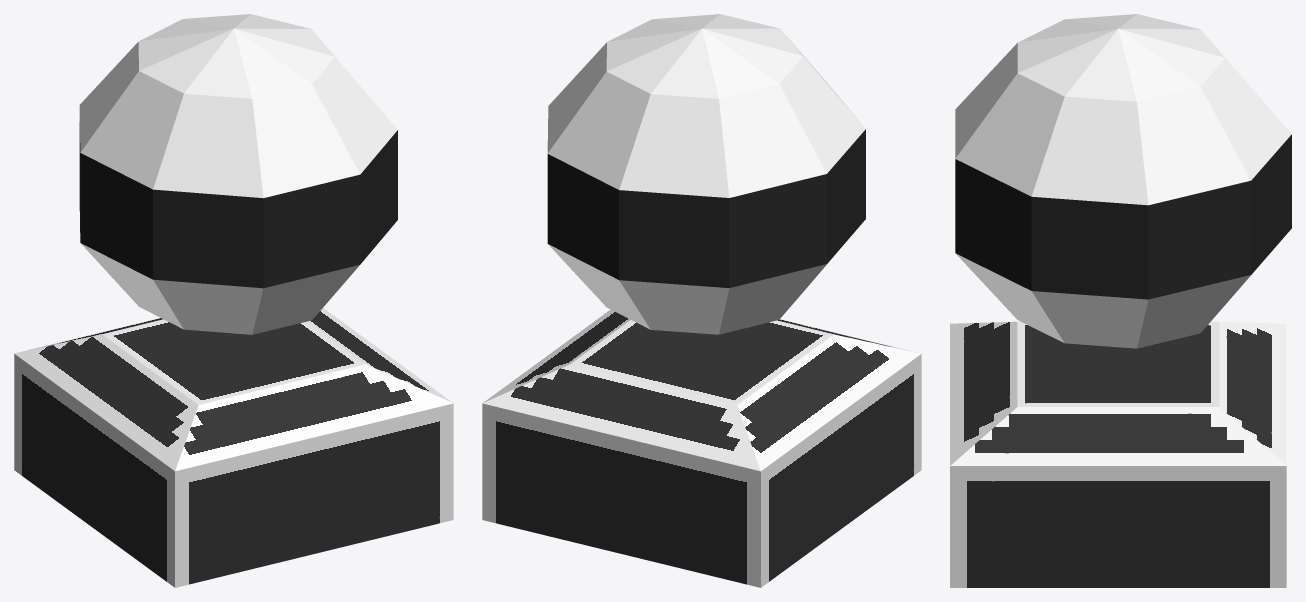
Rendered from CoreObject.fbx.
3 renders of one model, left to right at view 1: azimuth 30°, elevation 25°; view 2: azimuth 150°, elevation 25°; view 3: azimuth 270°, elevation 25°, orthographic. The views are drawn at different scales.
Visible parts, largest first — view 1: Pedestal, Core; view 2: Pedestal, Core; view 3: Core, Pedestal.
Part boxes in pixels (<box>): Pedestal: <box>14,308,453,587</box>; Core: <box>79,14,397,334</box>; Pedestal: <box>482,309,921,587</box>; Core: <box>547,14,865,334</box>; Core: <box>955,14,1291,348</box>; Pedestal: <box>950,321,1286,587</box>.
Bounding box in the file's own units: 62.5 × 100 × 63.45.
Materials: 2 (2 with a texture image).
